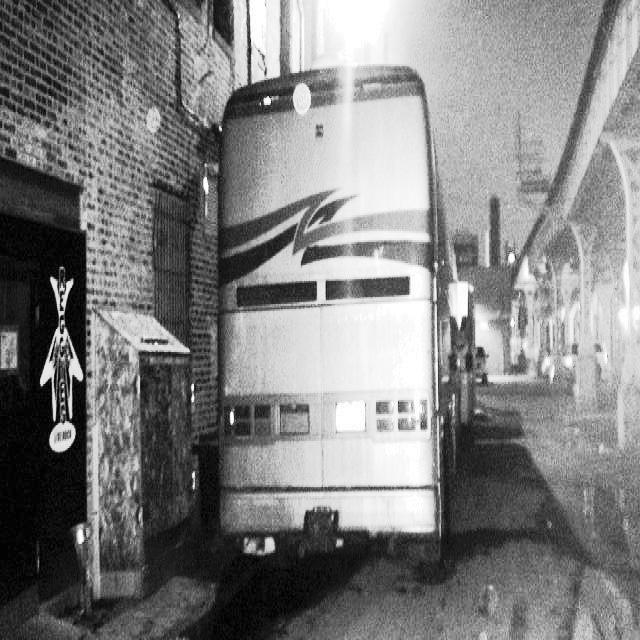Bus: (175, 48, 470, 594)
